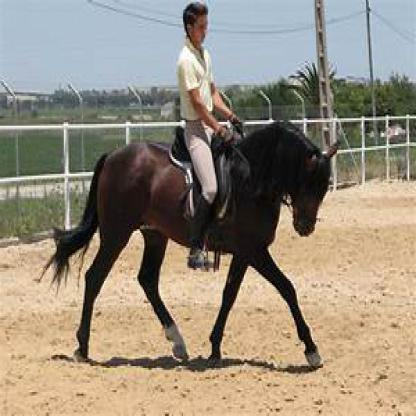horse: (60, 128, 336, 362)
